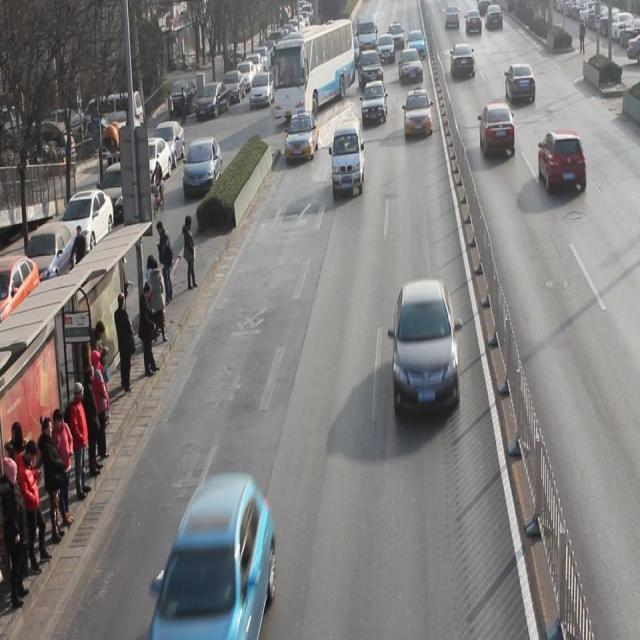car: (152, 474, 277, 640), (392, 283, 461, 419), (539, 130, 588, 197), (479, 103, 516, 158), (286, 112, 320, 162), (404, 89, 433, 140), (505, 62, 536, 106), (361, 80, 388, 125), (358, 50, 384, 92), (399, 47, 424, 86), (450, 44, 475, 82)
truck: (332, 116, 365, 198)
van: (274, 21, 356, 124)
